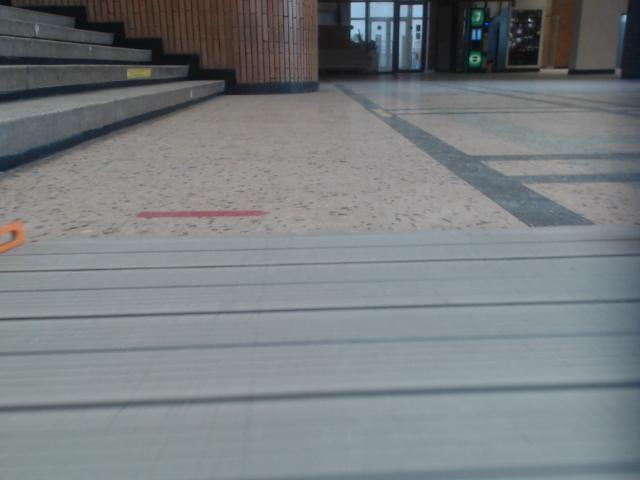rampDown: (0, 226, 639, 479)
